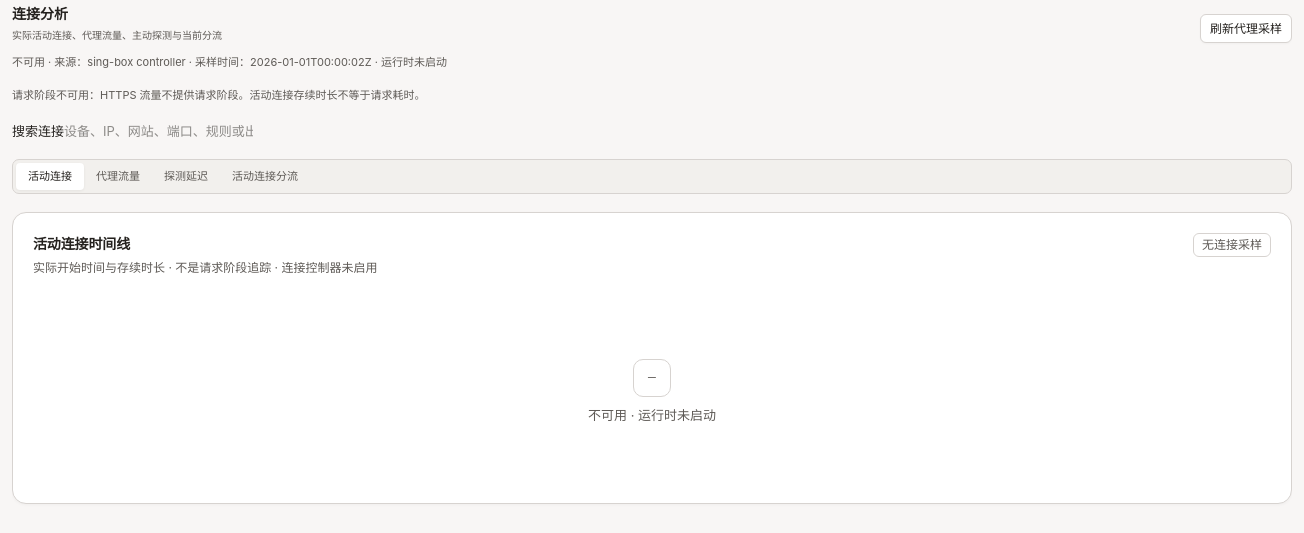
Test: actual proxy telemetry analysis › labels unavailable capabilities and never displays contradictory fixture rows
The image size is (1304, 533).
expect the message "— 不可用 · 运行时未启动" is shown: met, box [588,359,716,423]
Click the tab "探测延迟": [186, 176] box [152,163,220,190]
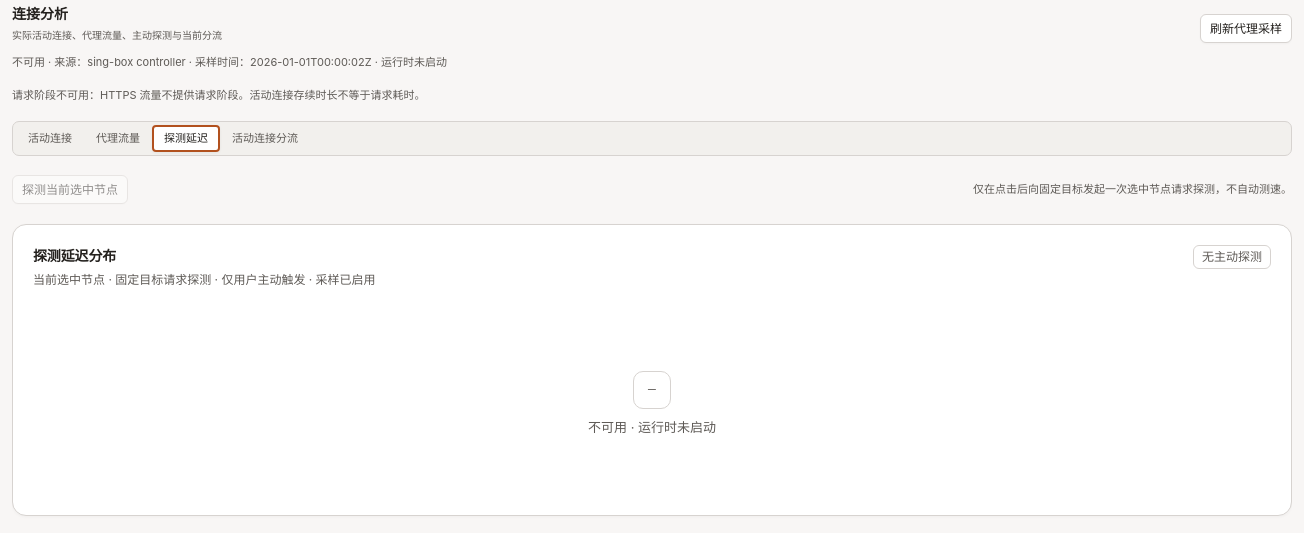
expect the button "探测当前选中节点" is disabled: met, box [12,175,128,204]
